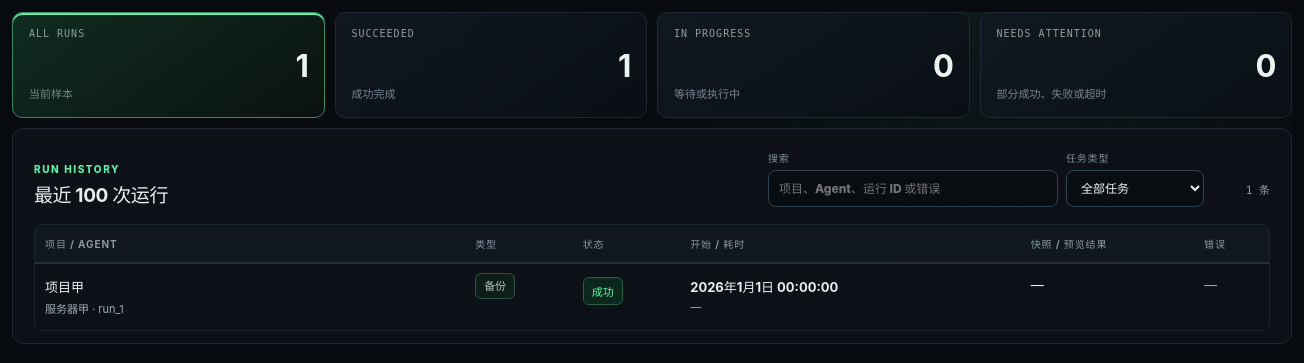
RunsView › shows an empty state when nothing matches the search
The image size is (1304, 363).
Type "不存在的关键词" into the search field labelled "搜索".
click(913, 188); type("不存在的关键词")  # box [768,170,1058,207]
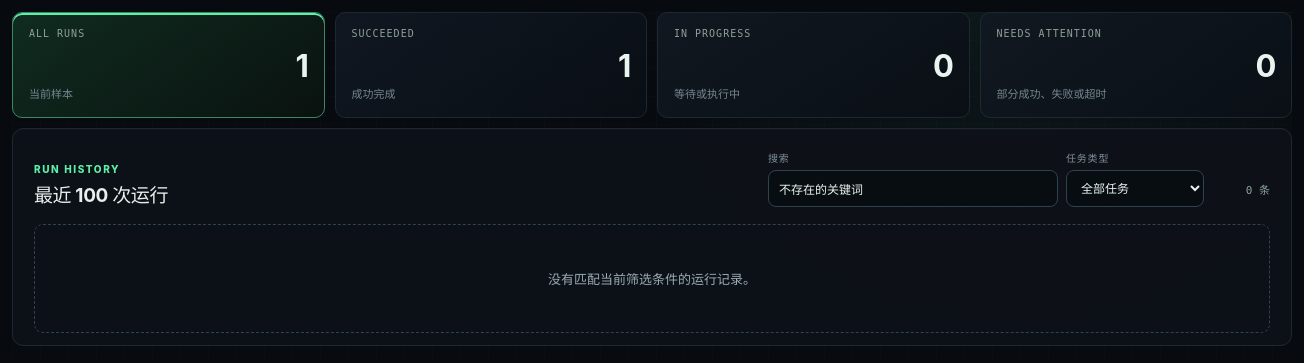
expect the text "没有匹配当前筛选条件的运行记录" is shown: met, box [548,271,756,287]
